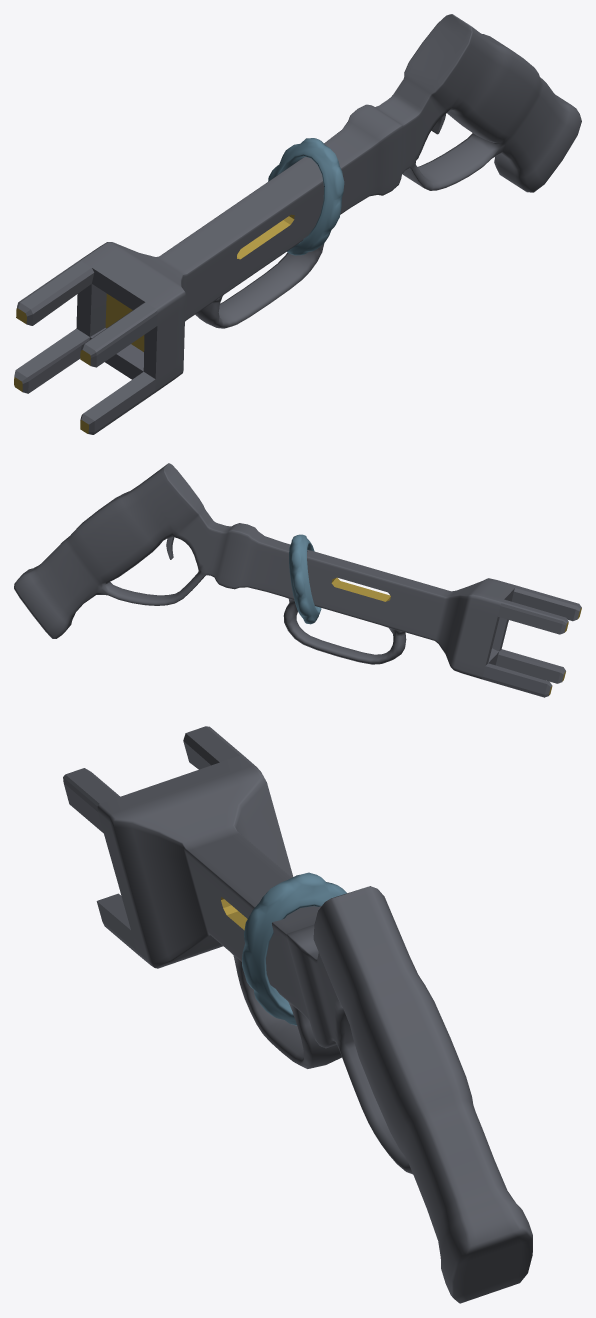
Rendered from Gun_Model.fbx.
The picture shows the model from 3 angles, top to bottom: view 1: azimuth 30°, elevation 25°; view 2: azimuth 150°, elevation 25°; view 3: azimuth 270°, elevation 25°; orthographic projection. The views are drawn at different scales.
Visible parts, largest first — view 1: Gun; view 2: Gun; view 3: Gun.
Boxes of the visible parts, x1,y1,x2,y2 form: Gun: (14, 14, 581, 434); Gun: (14, 463, 581, 697); Gun: (63, 726, 532, 1303).
Size of the model in its own units: 4.6 by 1.66 by 1.95.
